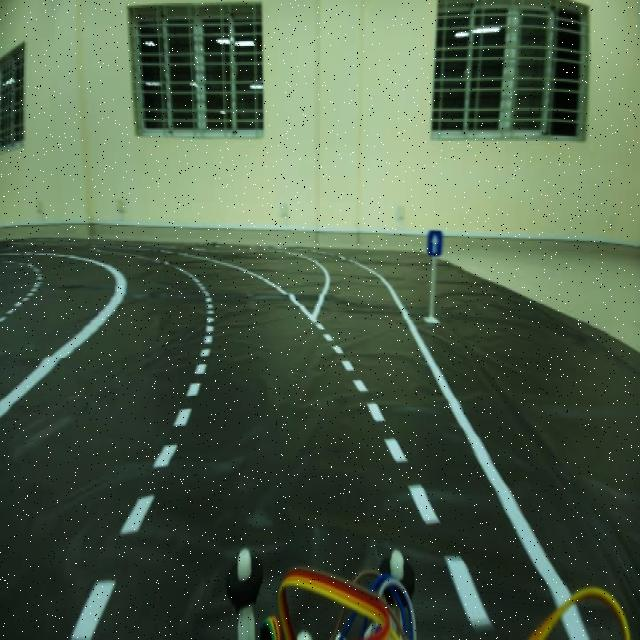onewayroad: (425, 225, 447, 261)
